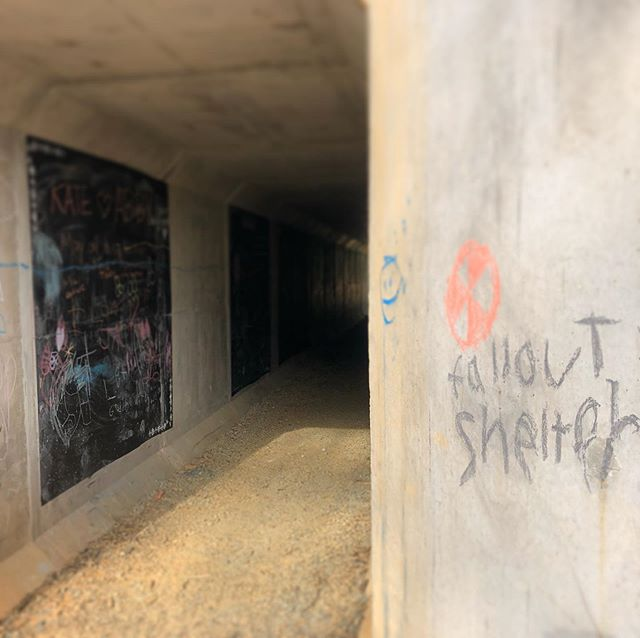graffiti: (432, 292, 640, 526)
tunnel: (15, 9, 410, 633)
